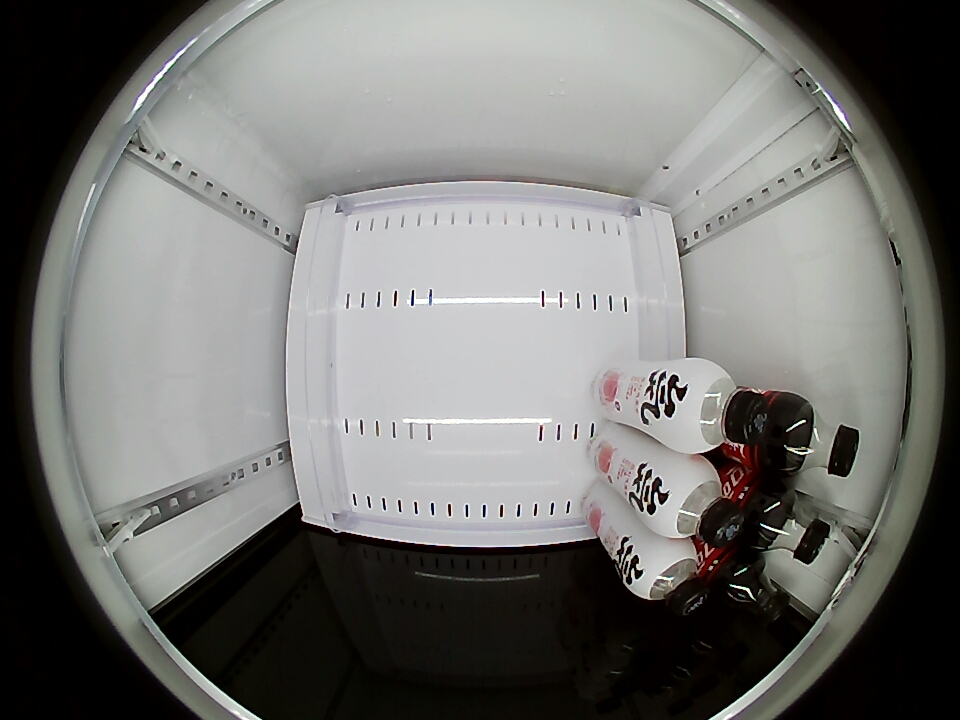lingdukele-b: (775, 399, 860, 478), (749, 488, 832, 564), (721, 558, 789, 620)
yuanqishui: (661, 360, 768, 455), (647, 459, 745, 546), (627, 538, 712, 618)
